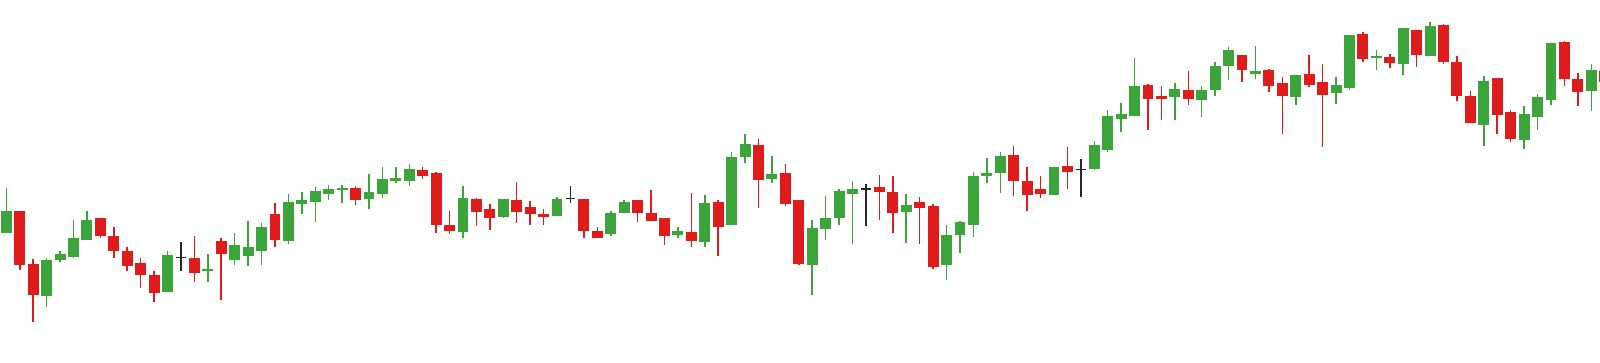buy: (698, 172, 821, 306), (847, 192, 953, 292), (1198, 66, 1301, 136)
